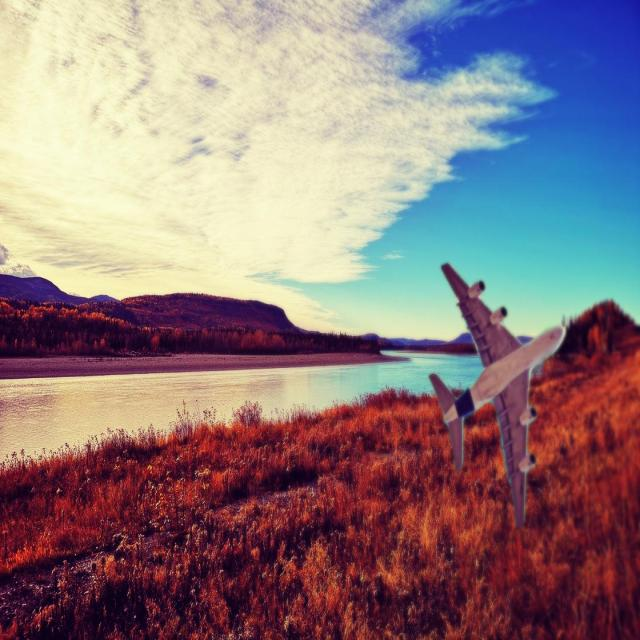airplane: (428, 261, 568, 529)
